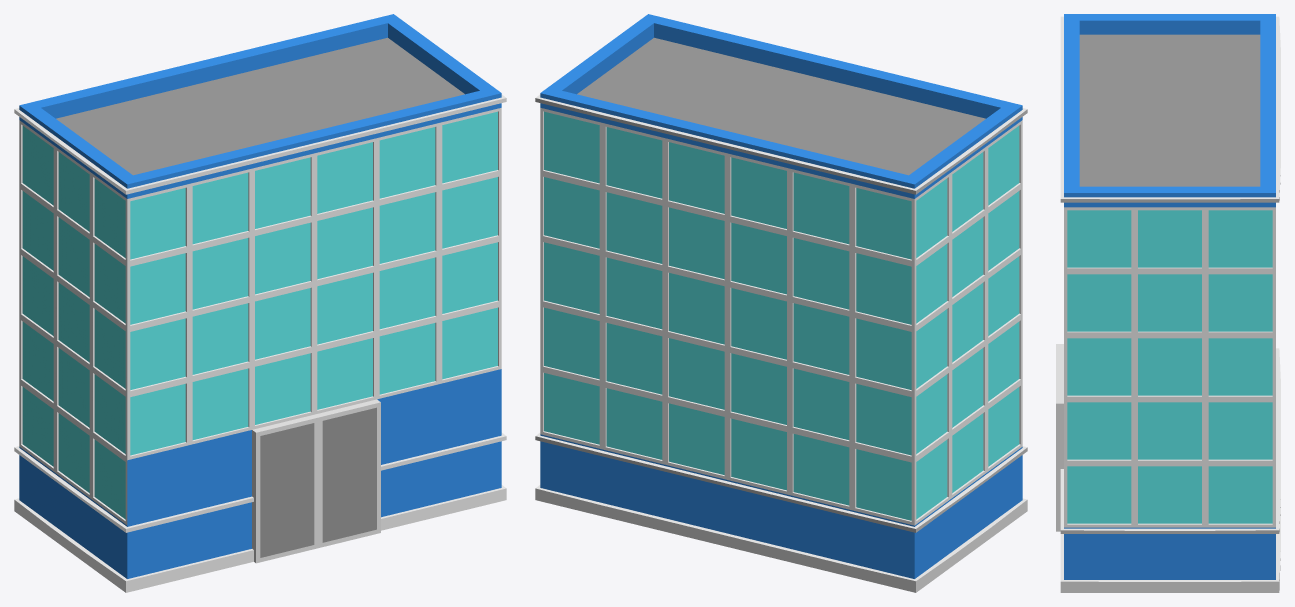
Rendered from SM_House_19_04.FBX.
The picture shows the model from 3 angles, left to right: view 1: azimuth 30°, elevation 25°; view 2: azimuth 150°, elevation 25°; view 3: azimuth 270°, elevation 25°; orthographic projection. The views are drawn at different scales.
Visible parts, largest first — view 1: SM_House_19_04; view 2: SM_House_19_04; view 3: SM_House_19_04.
Part boxes in pixels (bbox=[...]): SM_House_19_04: bbox=[14, 14, 506, 592]; SM_House_19_04: bbox=[535, 14, 1027, 592]; SM_House_19_04: bbox=[1056, 14, 1280, 592].
Size of the model in its own units: 6.14 by 6.22 by 3.18.
Materials: 1 (1 with a texture image).
